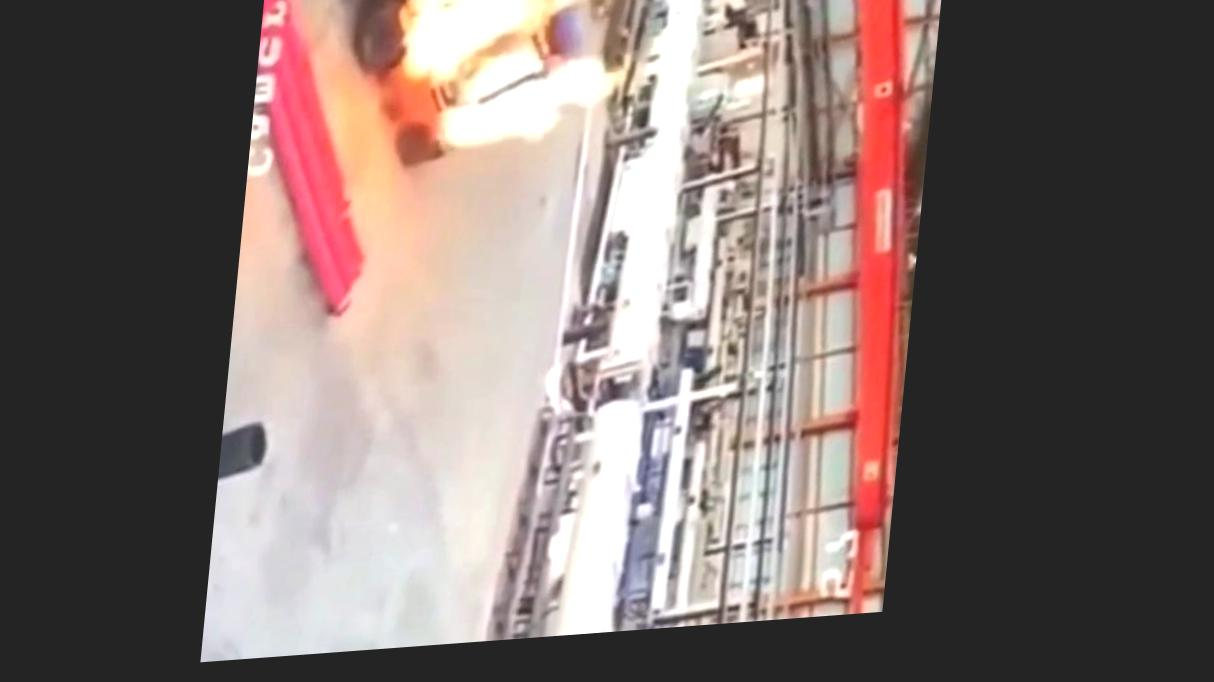fire: (242, 3, 665, 169)
